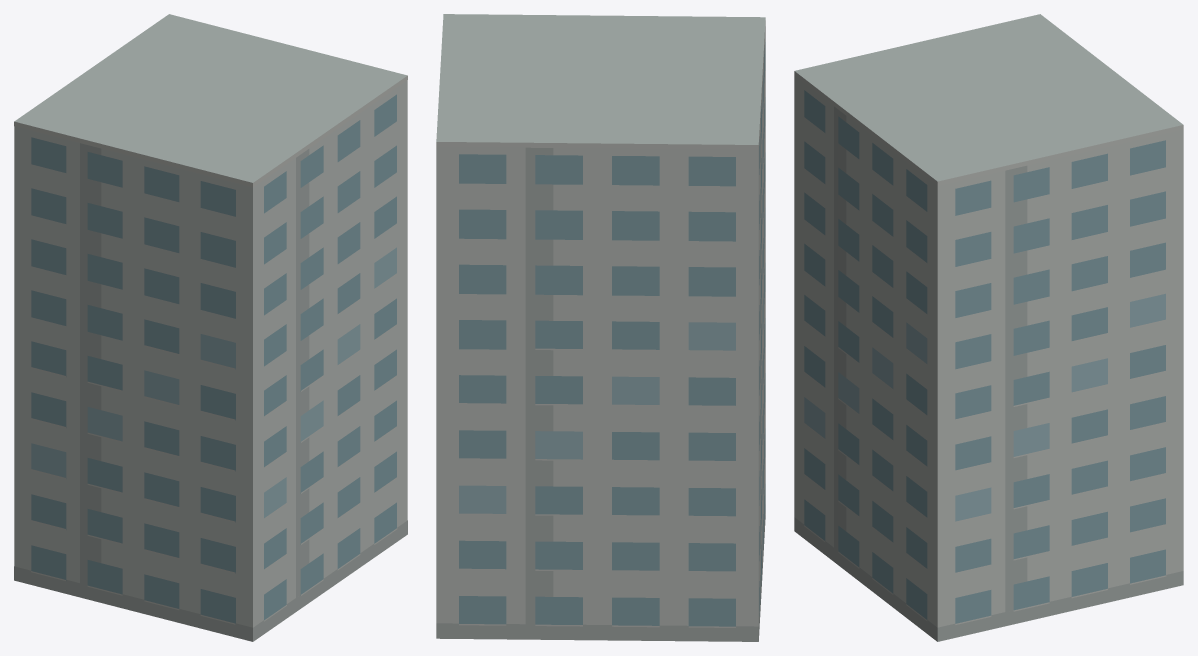
The model's file is residential-c0eec2c1-7ed8-47b7-8cd8-f0e410227996.glb.
3 renders of one model, left to right at view 1: azimuth 30°, elevation 25°; view 2: azimuth 150°, elevation 25°; view 3: azimuth 270°, elevation 25°, orthographic. The views are drawn at different scales.
Parts seen in each view (by area): view 1: residential-c0eec2c1-7ed8-47b7-8cd8-f0e410227996.tmp; view 2: residential-c0eec2c1-7ed8-47b7-8cd8-f0e410227996.tmp; view 3: residential-c0eec2c1-7ed8-47b7-8cd8-f0e410227996.tmp.
Boxes of the visible parts, x1,y1,x2,y2 form: residential-c0eec2c1-7ed8-47b7-8cd8-f0e410227996.tmp: [14, 14, 407, 641]; residential-c0eec2c1-7ed8-47b7-8cd8-f0e410227996.tmp: [436, 14, 765, 641]; residential-c0eec2c1-7ed8-47b7-8cd8-f0e410227996.tmp: [794, 14, 1183, 641].
Size of the model in its own units: 18.75 by 24 by 18.4.
